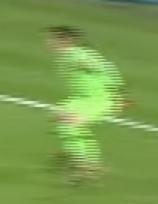goalkeeper: (32, 11, 143, 200)
